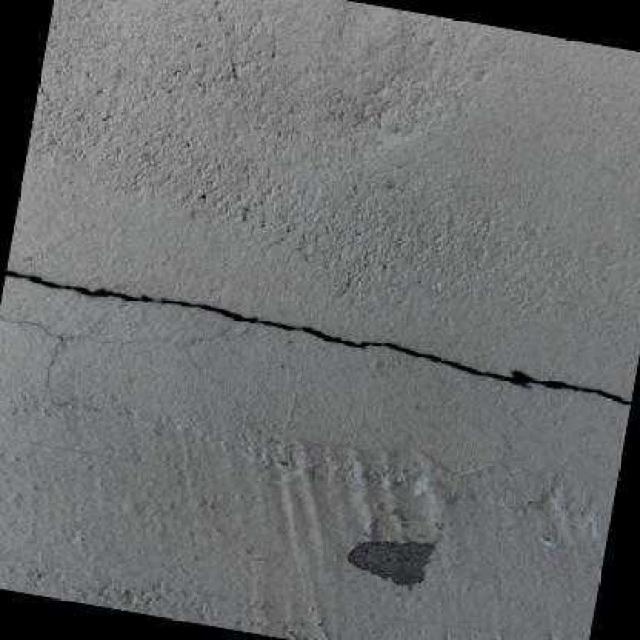D00: (3, 270, 631, 405), (0, 316, 60, 383)
